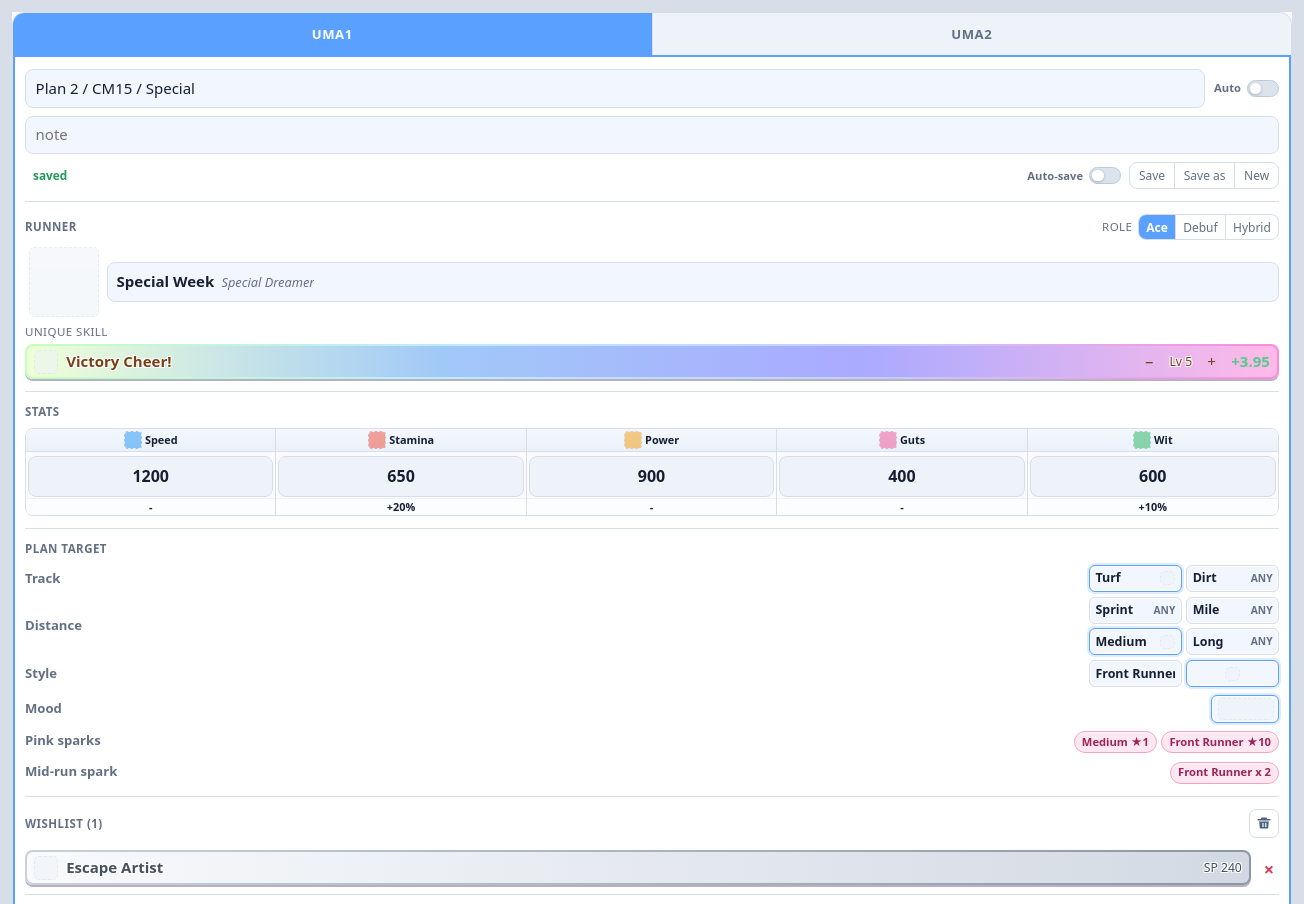
Test: PlannerSidebar › reopens uma search after selecting from the dropdown without requiring an outside click
Replace the text in the search field named "Search uma or unique skill" with "speedline": {"x": 693, "y": 282} 107,262 -> 1279,302
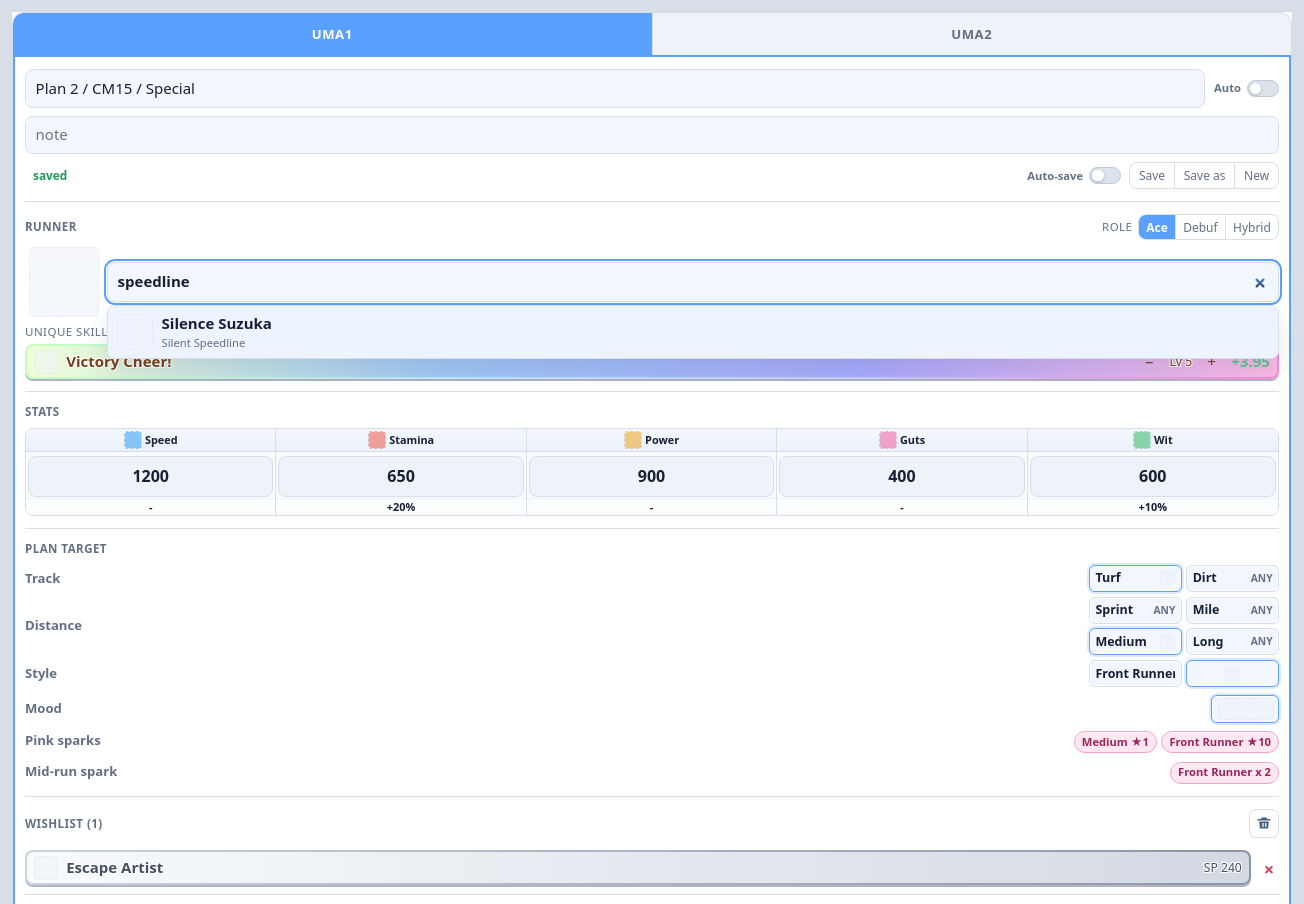
Click the button "Silence Suzuka Silent Speedline": {"x": 135, "y": 332} 108,306 -> 1278,358
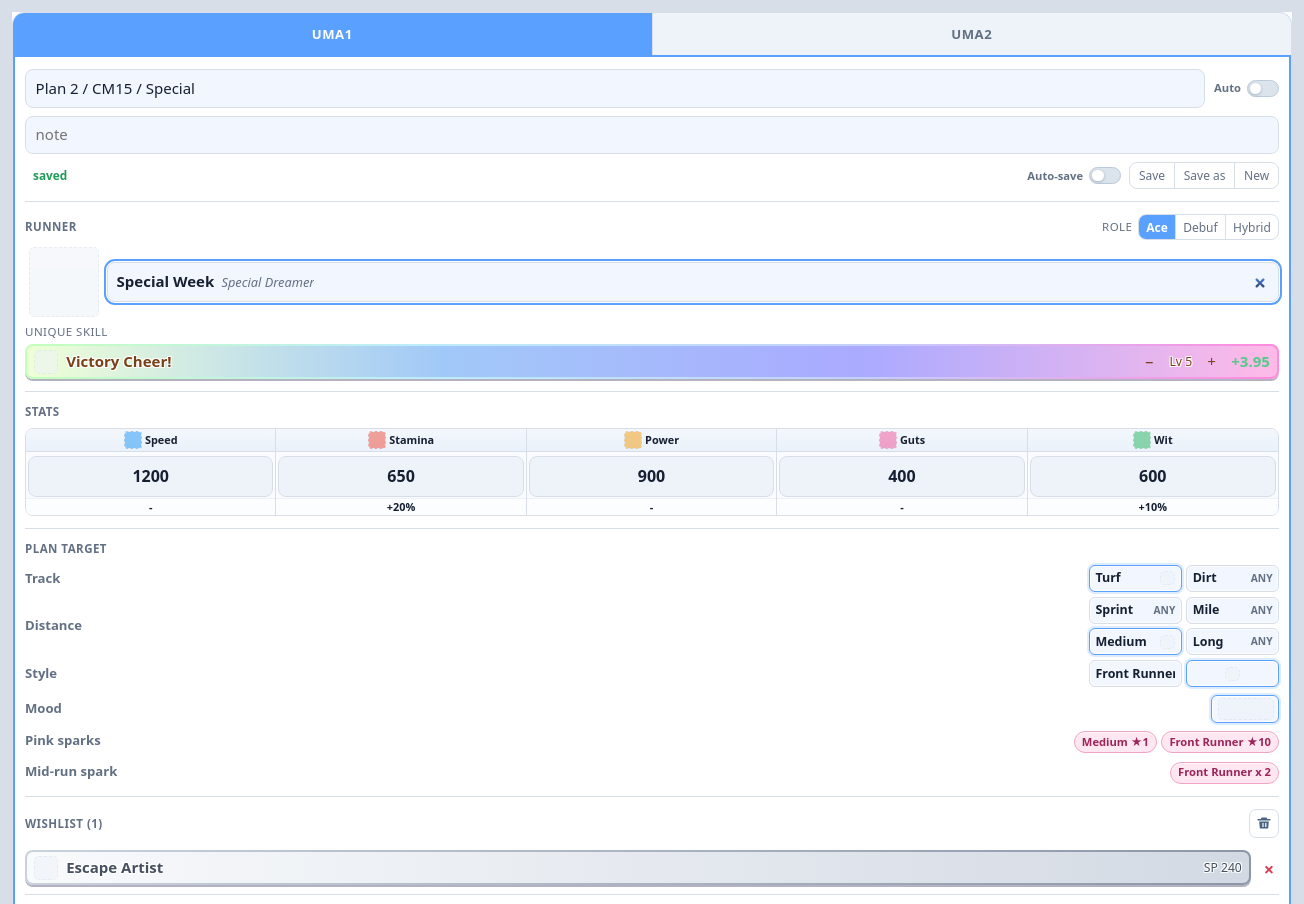
Click the search field named "Search uma or unique skill": {"x": 693, "y": 282} 107,262 -> 1279,302
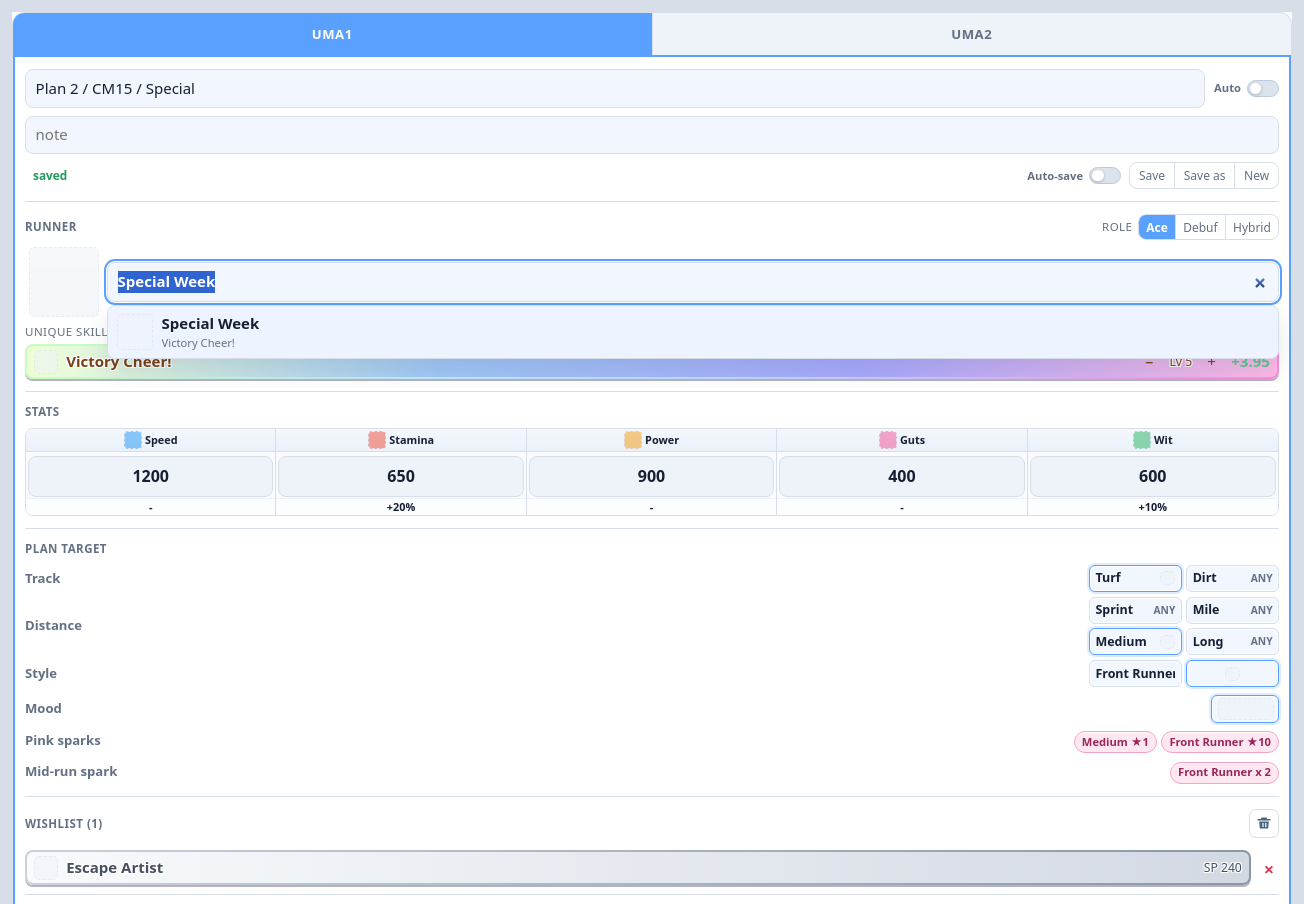
Now the list named "Uma search results" is shown, box 107,305 -> 1279,359
